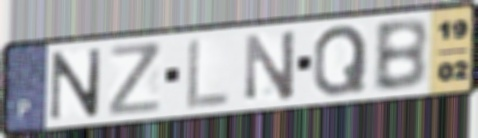B: (371, 16, 431, 95)
L: (184, 35, 232, 112)
N: (46, 46, 104, 123), (243, 27, 299, 103)
Q: (310, 23, 370, 99)
Z: (108, 40, 164, 119)
